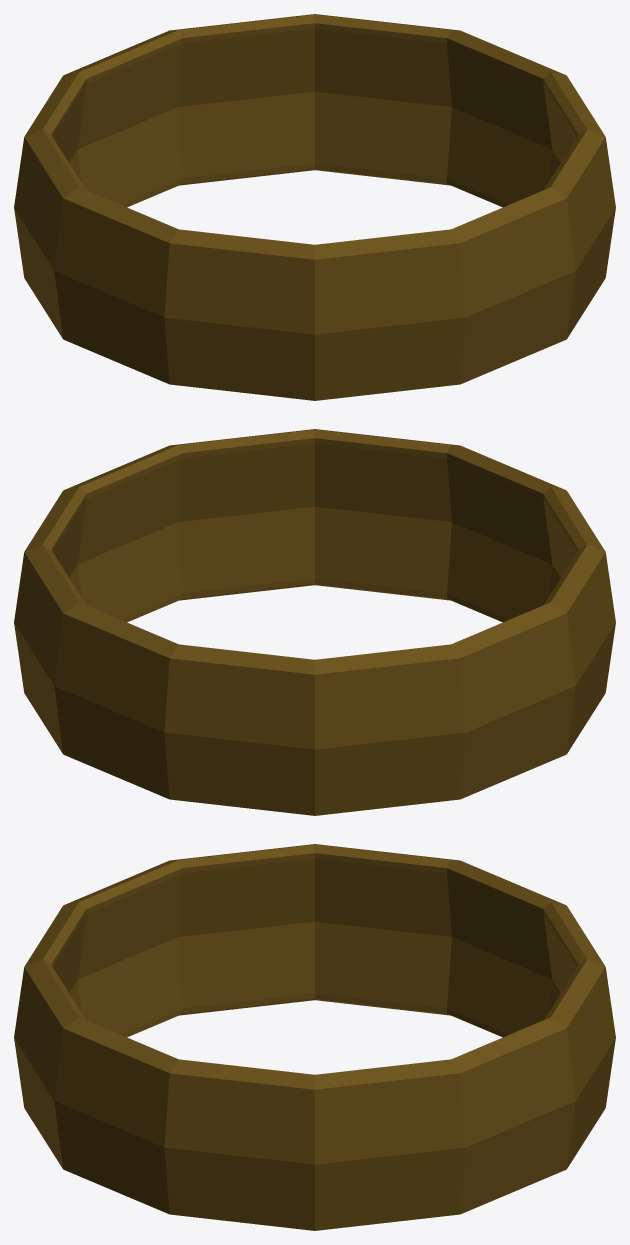
Rendered from Ring.obj.
3 views of the same model, one above another, from view 1: azimuth 30°, elevation 25°; view 2: azimuth 150°, elevation 25°; view 3: azimuth 270°, elevation 25° (orthographic).
Visible parts, largest first — view 1: Sphere; view 2: Sphere; view 3: Sphere.
Part boxes in pixels (<box>): Sphere: <box>14,14,615,400</box>; Sphere: <box>14,429,615,815</box>; Sphere: <box>14,844,615,1230</box>.
Bounding box in the file's own units: 2 × 0.5705 × 2.
